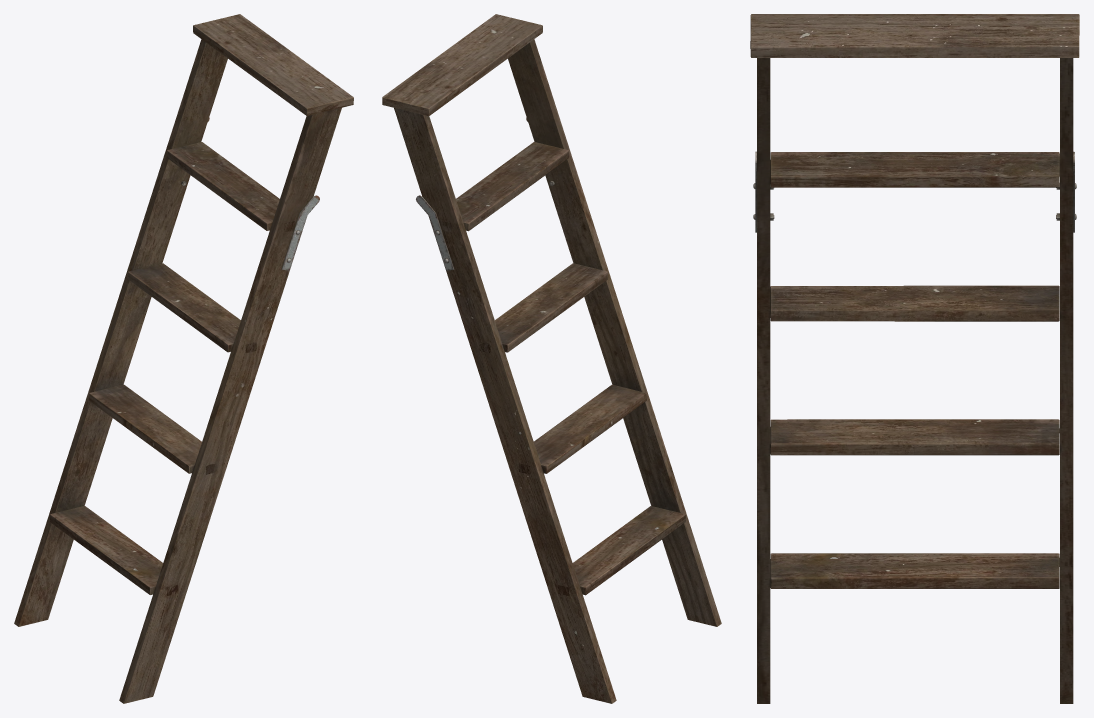
The model's file is ladder_freestanding.glb.
3 views of the same model, side by side, from view 1: azimuth 30°, elevation 25°; view 2: azimuth 150°, elevation 25°; view 3: azimuth 270°, elevation 25° (orthographic). The views are drawn at different scales.
Parts seen in each view (by area): view 1: wooden_ladder_steps; view 2: wooden_ladder_steps; view 3: wooden_ladder_steps.
Part boxes in pixels (x1,y1,x2,y2): wooden_ladder_steps: (14, 14, 353, 703); wooden_ladder_steps: (382, 14, 721, 703); wooden_ladder_steps: (750, 14, 1079, 703).
Bounding box in the file's own units: 1.04 × 2.4 × 0.8992.
Materials: 1 (1 with a texture image).
